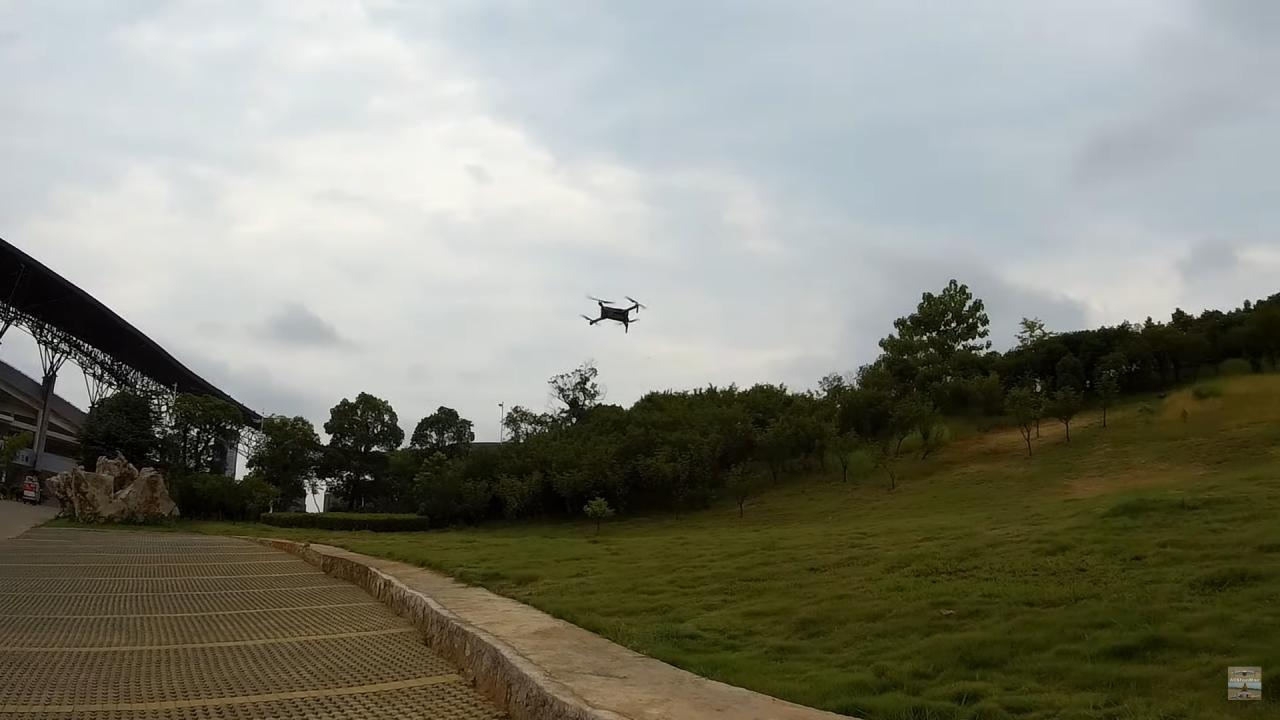Drone: (572, 284, 652, 340)
